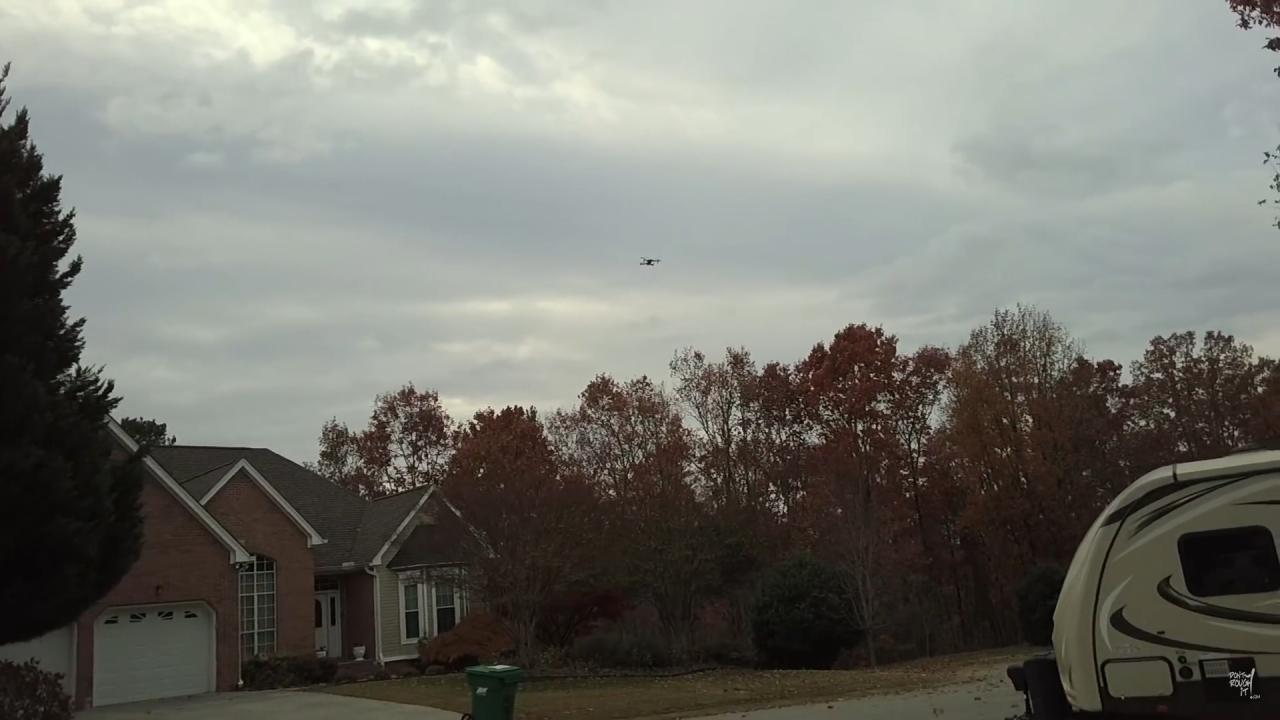Drone: (632, 249, 667, 276)
